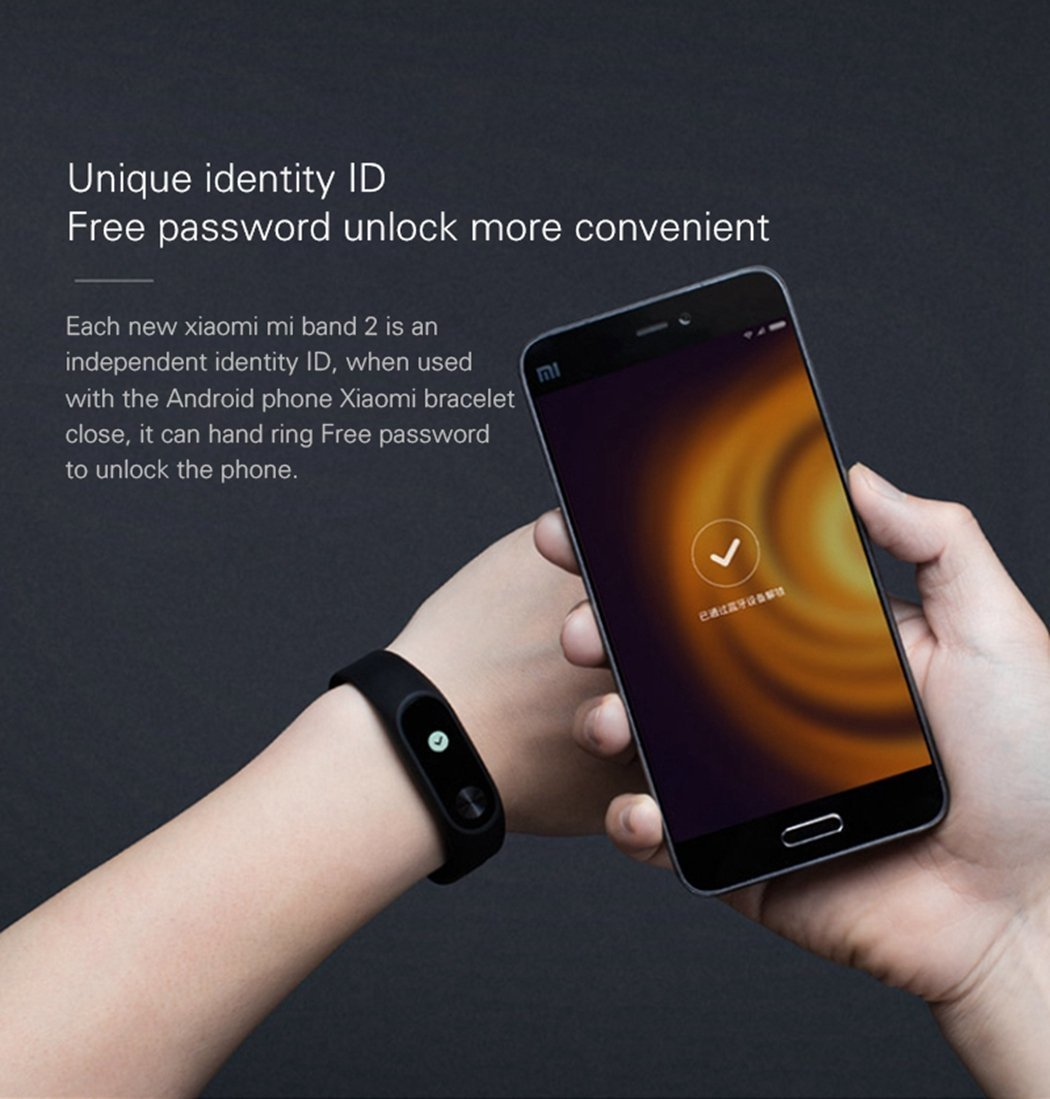smartphone: (521, 267, 951, 897)
